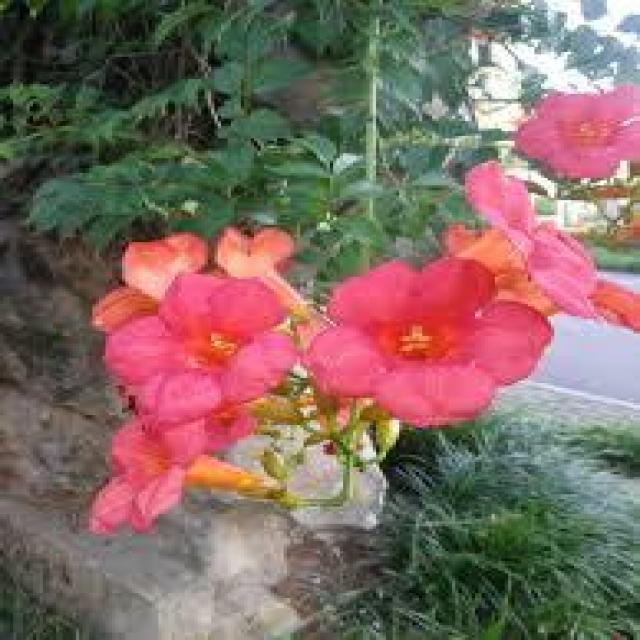organic waste: (307, 258, 561, 419), (80, 282, 314, 420), (510, 78, 635, 184)
